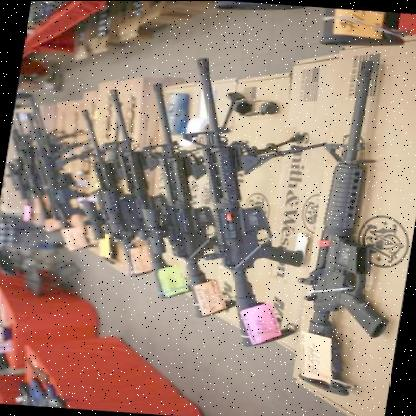rifle: (148, 54, 338, 350), (288, 56, 416, 386)
